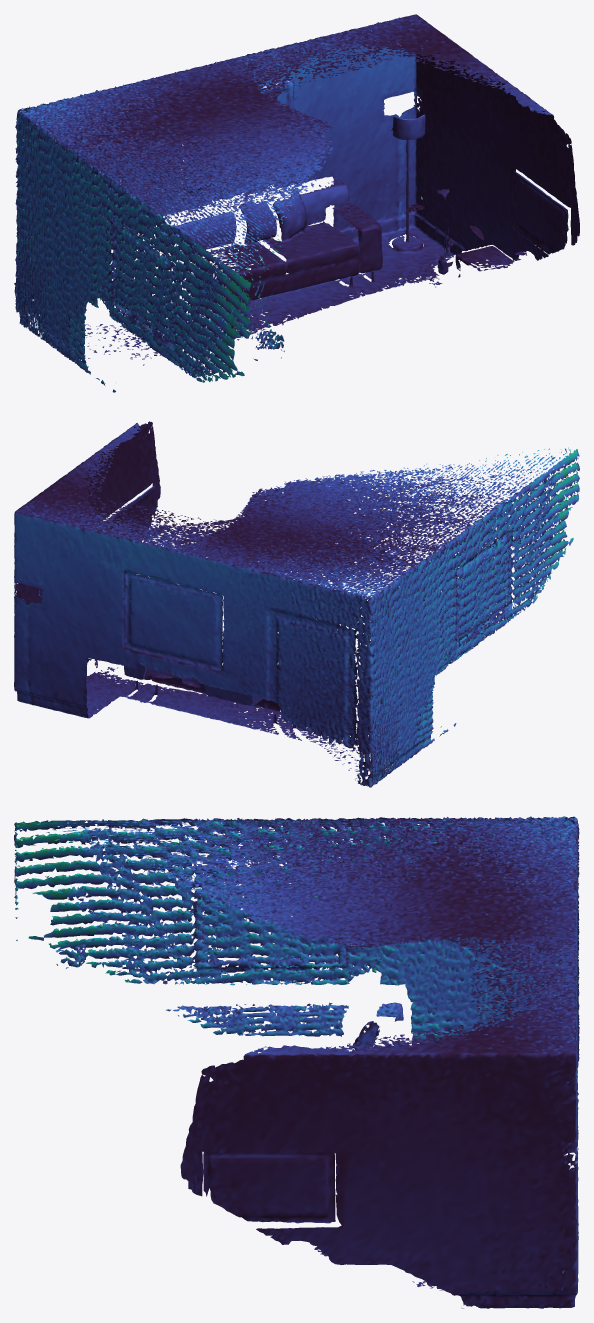
Rendered from tsdf_tuned_gt_error.glb.
3 renders of one model, top to bottom at view 1: azimuth 30°, elevation 25°; view 2: azimuth 150°, elevation 25°; view 3: azimuth 270°, elevation 25°, orthographic. The views are drawn at different scales.
Bounding box in the file's own units: 4.96 × 2.53 × 4.99.
